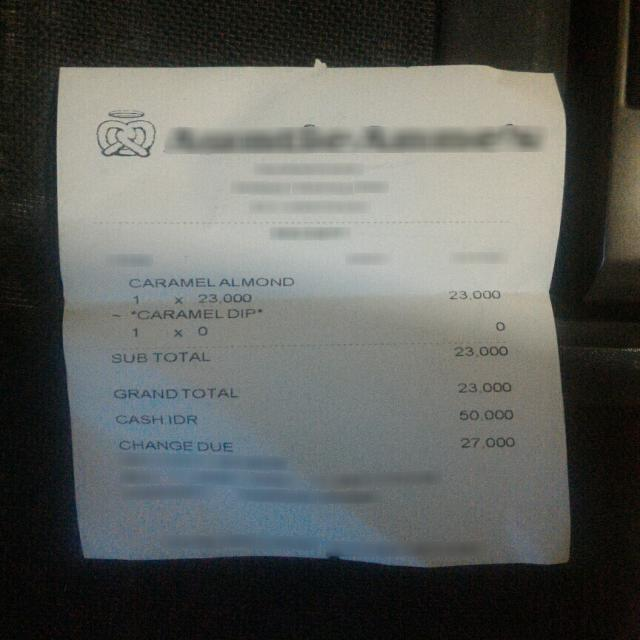kertas: (55, 59, 570, 571)
